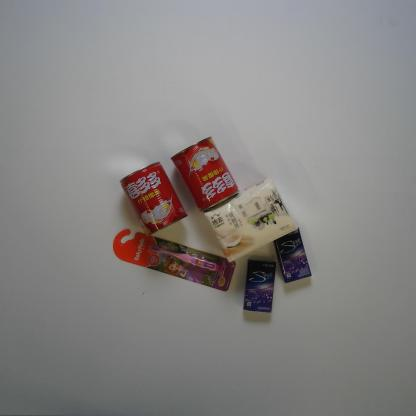Canned Food: (170, 135, 240, 212), (120, 160, 188, 236)
Gum: (272, 227, 313, 283), (243, 257, 276, 314)
Personal Hygiene: (112, 229, 236, 292)
Tissue: (204, 176, 298, 264)
